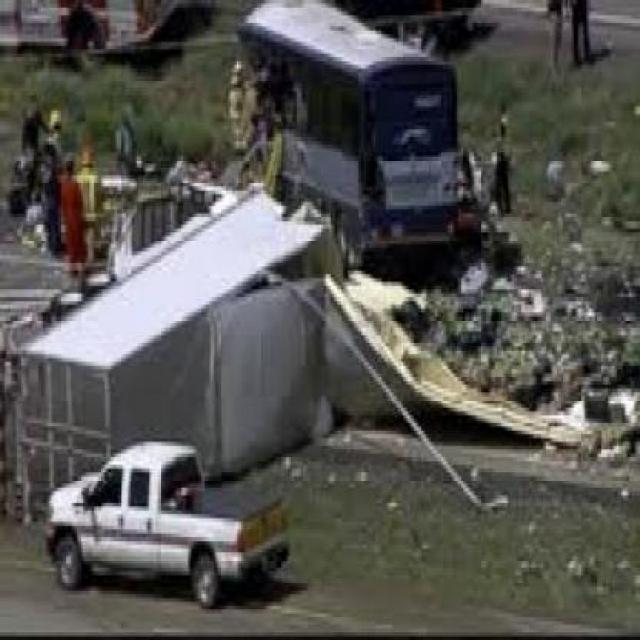accident: (74, 2, 609, 489)
